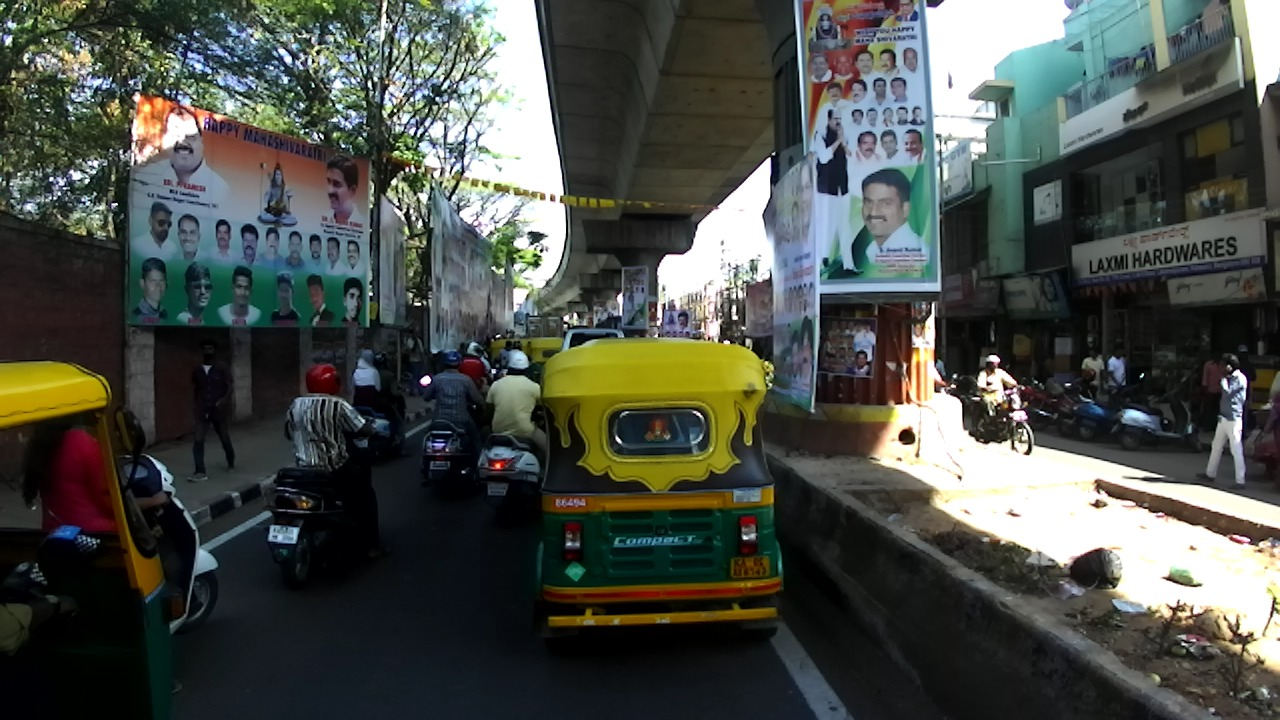autorickshaw: (531, 338, 785, 651), (1, 357, 190, 720), (530, 336, 564, 384), (492, 338, 528, 374)
bus: (562, 321, 570, 341)
car: (562, 329, 625, 354)
motorcycle: (260, 415, 381, 588), (119, 455, 217, 642), (477, 389, 549, 520), (1109, 377, 1204, 451), (420, 375, 476, 497), (350, 371, 412, 464), (1072, 373, 1145, 441), (972, 380, 1034, 456), (1056, 375, 1124, 437), (1020, 377, 1081, 431), (1014, 378, 1044, 421), (951, 373, 979, 414), (934, 374, 958, 398), (485, 369, 497, 392)
person: (187, 335, 239, 482), (1195, 354, 1249, 490), (1203, 348, 1230, 430), (1236, 344, 1257, 440), (407, 326, 427, 397), (1081, 348, 1105, 397), (1107, 347, 1128, 396), (935, 358, 947, 387), (481, 334, 492, 360), (457, 342, 467, 358), (722, 337, 731, 345), (495, 332, 504, 340), (490, 335, 497, 343), (707, 336, 711, 341), (718, 338, 721, 343)
rider: (283, 362, 391, 557), (422, 350, 484, 476), (485, 350, 553, 462), (353, 349, 400, 445), (977, 354, 1019, 434), (372, 351, 407, 443), (461, 341, 491, 397), (507, 340, 523, 372), (497, 341, 512, 369), (933, 367, 946, 392)
truck: (525, 313, 563, 339)
vehicle fallback: (1244, 403, 1276, 476), (571, 325, 589, 330)
